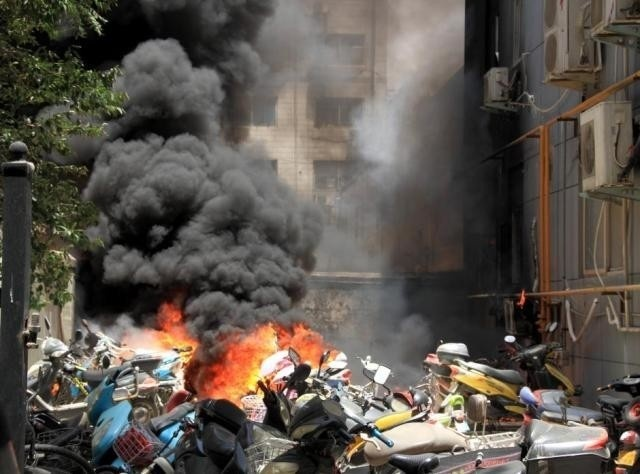fire: (156, 302, 332, 398)
